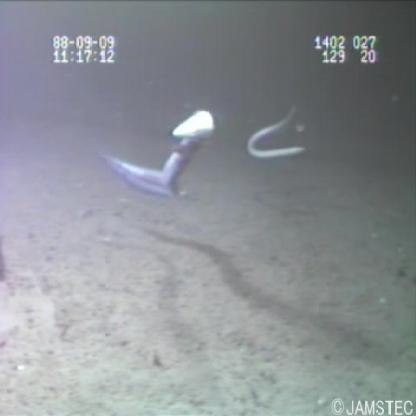Bio: (90, 104, 219, 210), (243, 105, 312, 180)
